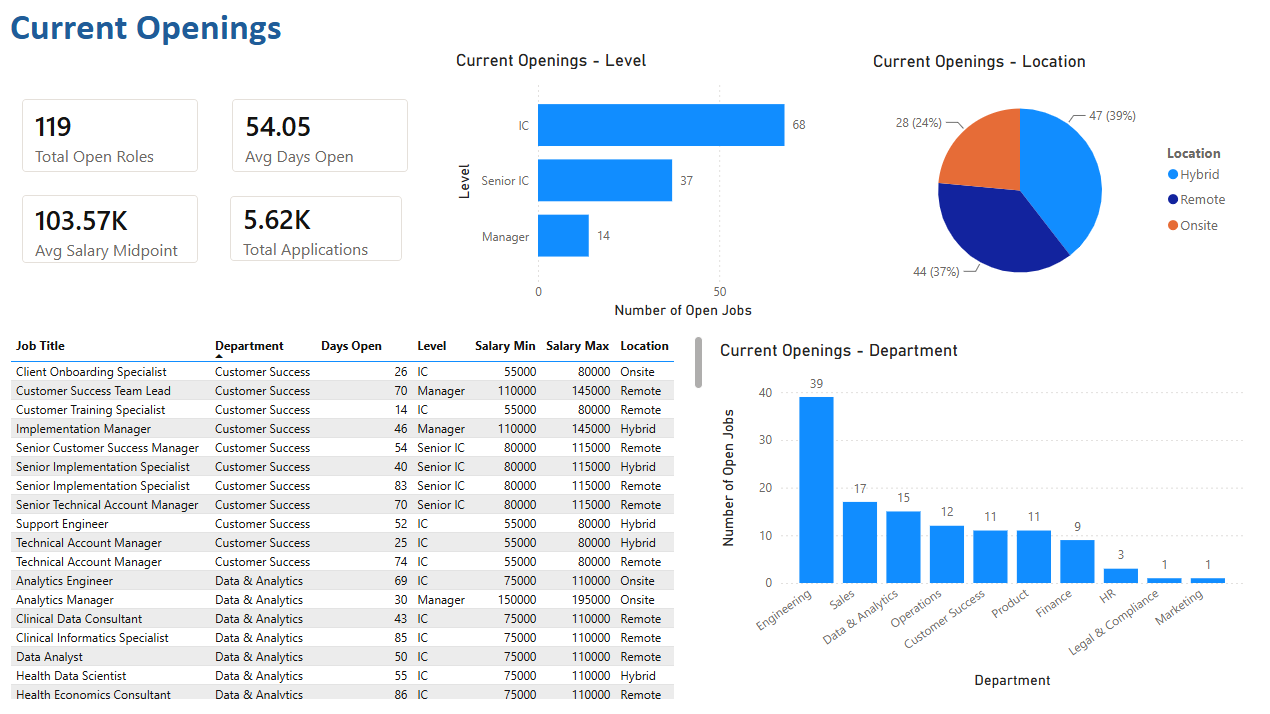

This screenshot's page, from the dashboard's own definition file:
{"tool":"powerbi","page":{"name":"Current Openings","canvas":[1280,720],"ordinal":1},"visuals":[{"type":"textbox","box":[9.7,0,292.8,69.1],"z":0},{"type":"cardVisual","fields":{"Data":["_Measures.Avg Days Open"]},"box":[219.8,83.6,210.1,107],"z":1000,"group":"g1"},{"type":"cardVisual","fields":{"Data":["_Measures.Avg Salary Midpoint"]},"box":[9.7,179.9,210.1,102.1],"z":2000,"group":"g1"},{"type":"cardVisual","fields":{"Data":["_Measures.Total Open Roles"]},"box":[9.7,83.6,210.1,107],"z":3000,"group":"g1"},{"type":"pieChart","title":"Current Openings - Location","fields":{"Category":["clean vw_open_roles.location"],"Y":["CountNonNull(clean vw_open_roles.job_id)"]},"box":[873.4,52.5,376.4,260.7],"z":4000},{"type":"columnChart","title":"Current Openings - Department","fields":{"Category":["clean vw_open_roles.department"],"Y":["CountNonNull(clean vw_open_roles.job_id)"]},"box":[719.8,342.4,533,353.1],"z":4001},{"type":"barChart","title":"Current Openings - Level","fields":{"Y":["CountNonNull(clean vw_open_roles.job_id)"],"Category":["clean vw_open_roles.level"]},"box":[456.2,51.6,389.1,273.3],"z":4002},{"type":"tableEx","fields":{"Values":["clean vw_open_roles.title","clean vw_open_roles.department","clean vw_open_roles.days_open","clean vw_open_roles.level","clean vw_open_roles.salary_min","clean vw_open_roles.salary_max","clean vw_open_roles.location"]},"box":[9.7,332.6,703.2,373.5],"z":4003},{"type":"cardVisual","fields":{"Data":["_Measures.Apps for Open Roles"]},"box":[217.8,180.9,206.2,99.2],"z":4004,"group":"g1"},{"type":"group","id":"g1","title":"Group 1","box":[9.7,83.6,420.2,198.4],"z":4005}]}

Visuals, with their boxes in screenshot pixels (x1, y1, x2, y2), scaled from the page's 1280x720 canvas onto the 1270x714 screenshot:
textbox: [x1=10, y1=0, x2=300, y2=69]
cardVisual - _Measures.Avg Days Open: [x1=218, y1=83, x2=427, y2=189]
cardVisual - _Measures.Avg Salary Midpoint: [x1=10, y1=178, x2=218, y2=280]
cardVisual - _Measures.Total Open Roles: [x1=10, y1=83, x2=218, y2=189]
"Current Openings - Location" pieChart: [x1=867, y1=52, x2=1240, y2=311]
"Current Openings - Department" columnChart: [x1=714, y1=340, x2=1243, y2=690]
"Current Openings - Level" barChart: [x1=453, y1=51, x2=839, y2=322]
tableEx - clean vw_open_roles.title x clean vw_open_roles.department: [x1=10, y1=330, x2=707, y2=700]
cardVisual - _Measures.Apps for Open Roles: [x1=216, y1=179, x2=421, y2=278]
"Group 1" group: [x1=10, y1=83, x2=427, y2=280]
